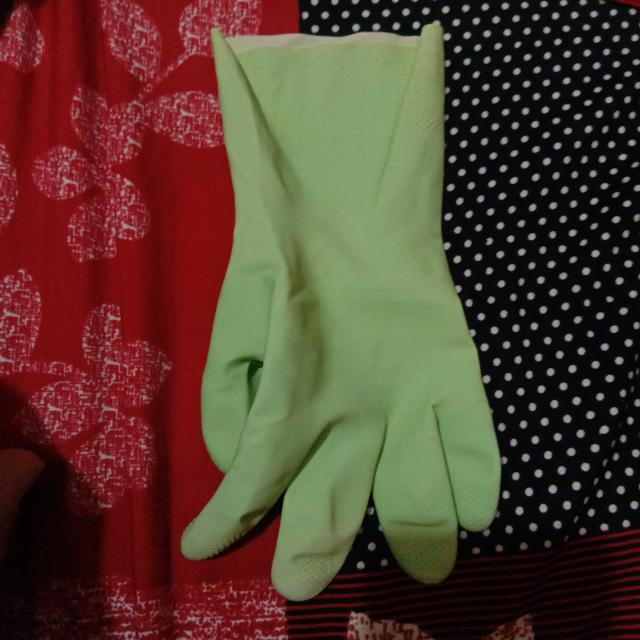glove_hand: (169, 18, 511, 606)
